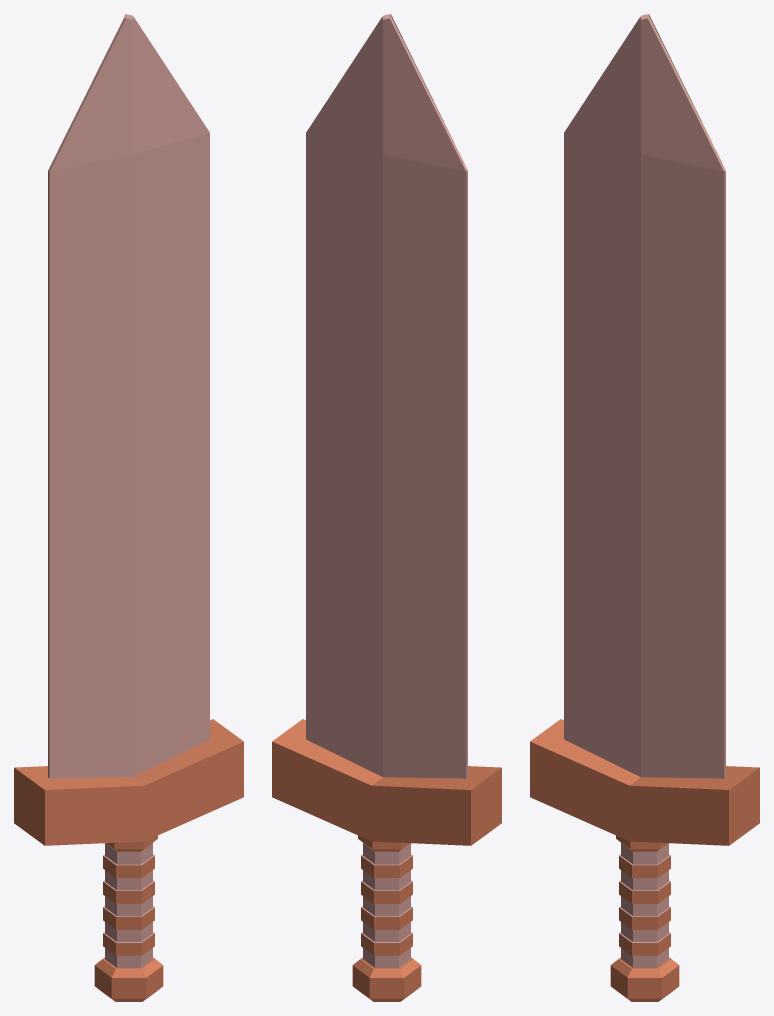
File: ENV_Sword01_Placeholder02.fbx
3 renders of one model, left to right at view 1: azimuth 30°, elevation 25°; view 2: azimuth 150°, elevation 25°; view 3: azimuth 330°, elevation 25°, orthographic.
Visible parts, largest first — view 1: Cube.004; view 2: Cube.004; view 3: Cube.004.
Boxes of the visible parts, x1,y1,x2,y2 form: Cube.004: (14,14,243,1001); Cube.004: (272,14,501,1001); Cube.004: (530,14,759,1001).
Bounding box in the file's own units: 8.29 × 27.65 × 129.
